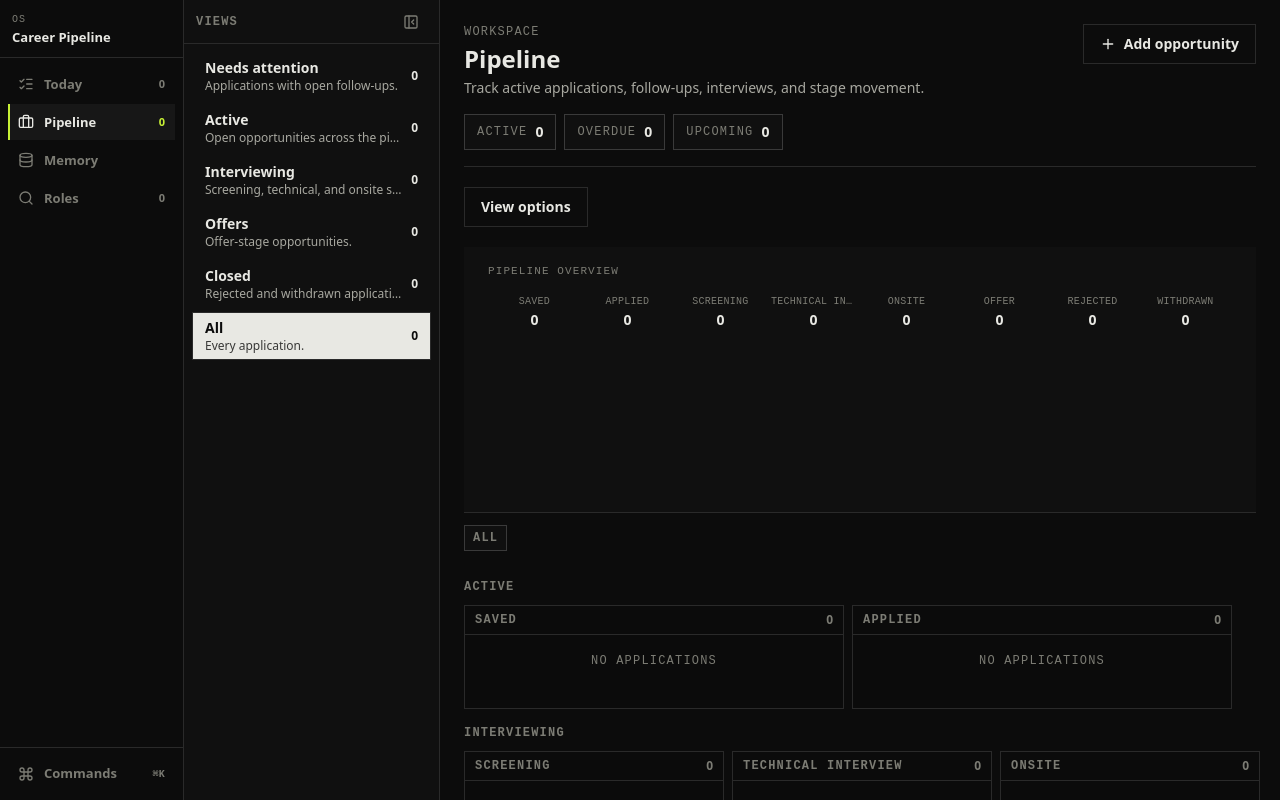
Test: Job application tracker shell › updates browser history when navigating between workspaces
Expected: the navigation bar named "Global navigation" is shown, [0,0,184,799]
Click the button "Memory" at [92, 160], box [8,142,175,178]
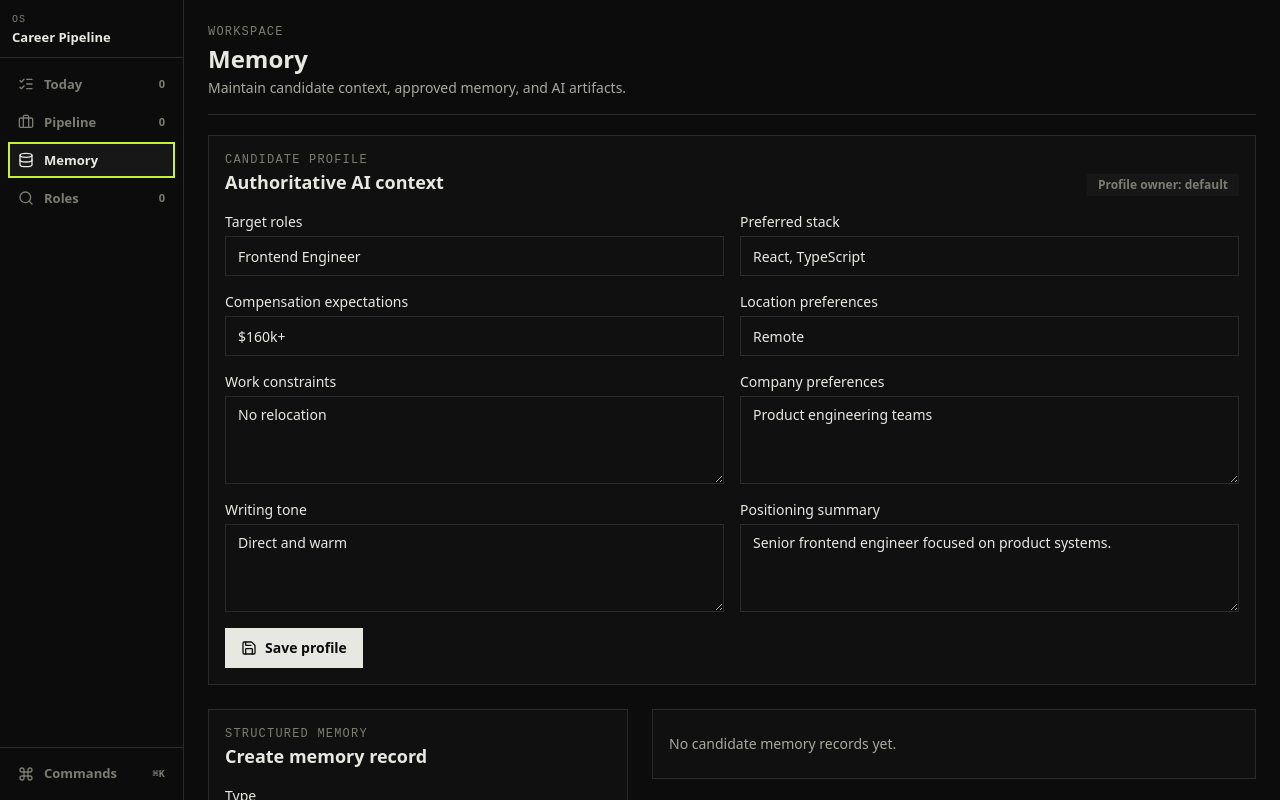
Expected: the field labelled "Target roles" is shown, [225,236,724,276]
Click the button "Roles 0" at [92, 198], box [8,180,175,216]
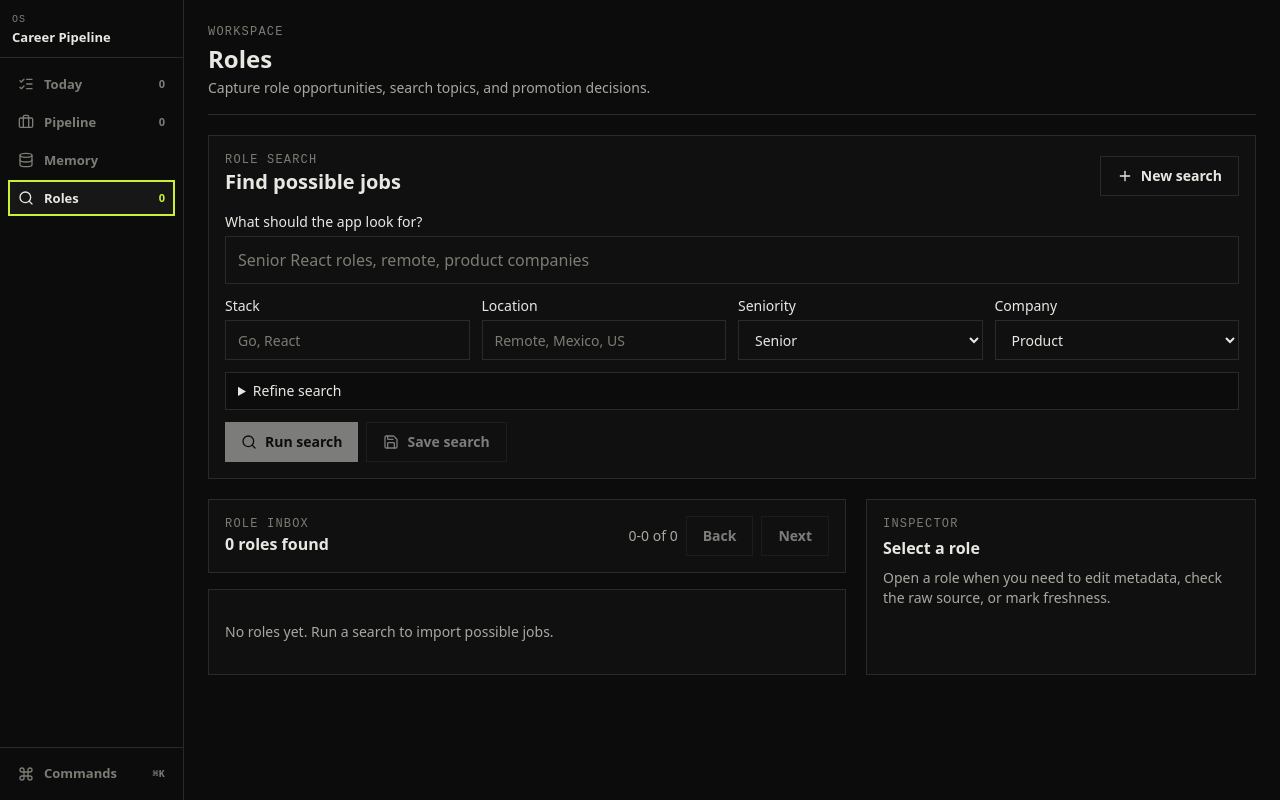
Expected: the heading "Find possible jobs" is shown, [225,168,401,196]
Click the button "Pipeline 0" at [92, 122], box [8,104,175,140]
(page scrolled)
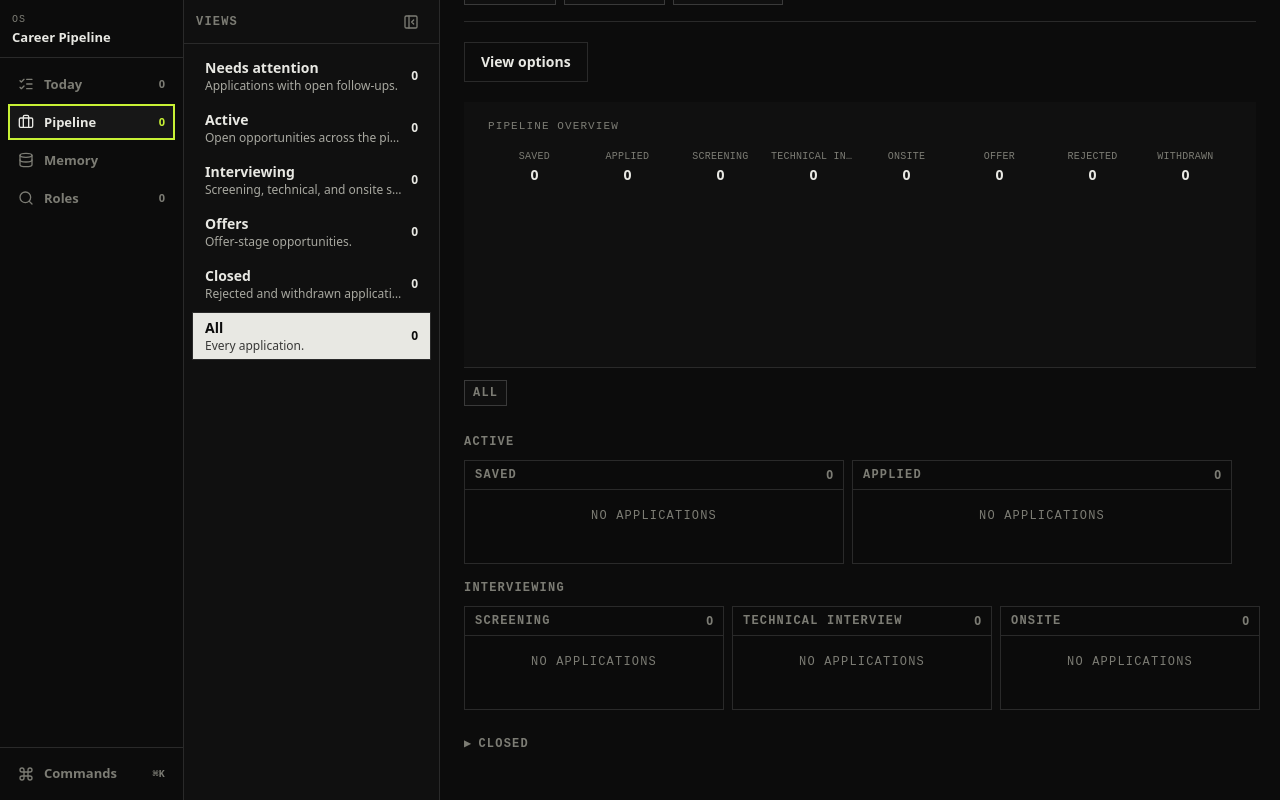
Expected: the element named "Application pipeline" is shown, [464,430,1256,776]
